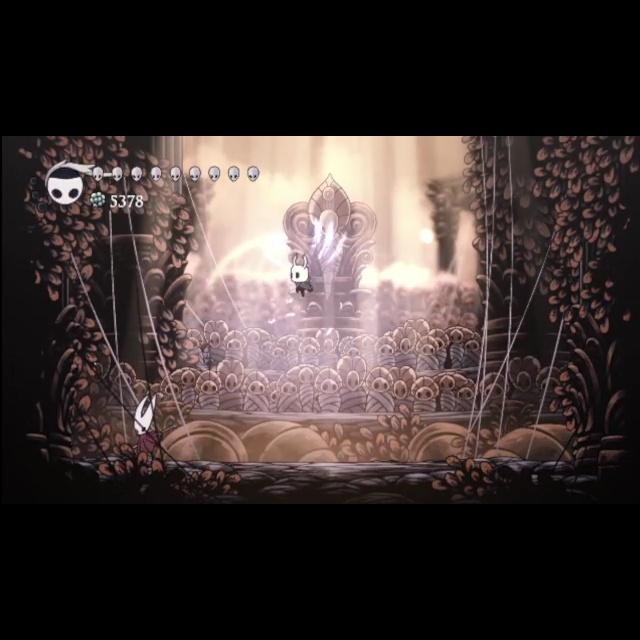Enemy: (121, 388, 175, 464)
Player: (286, 254, 318, 300)
